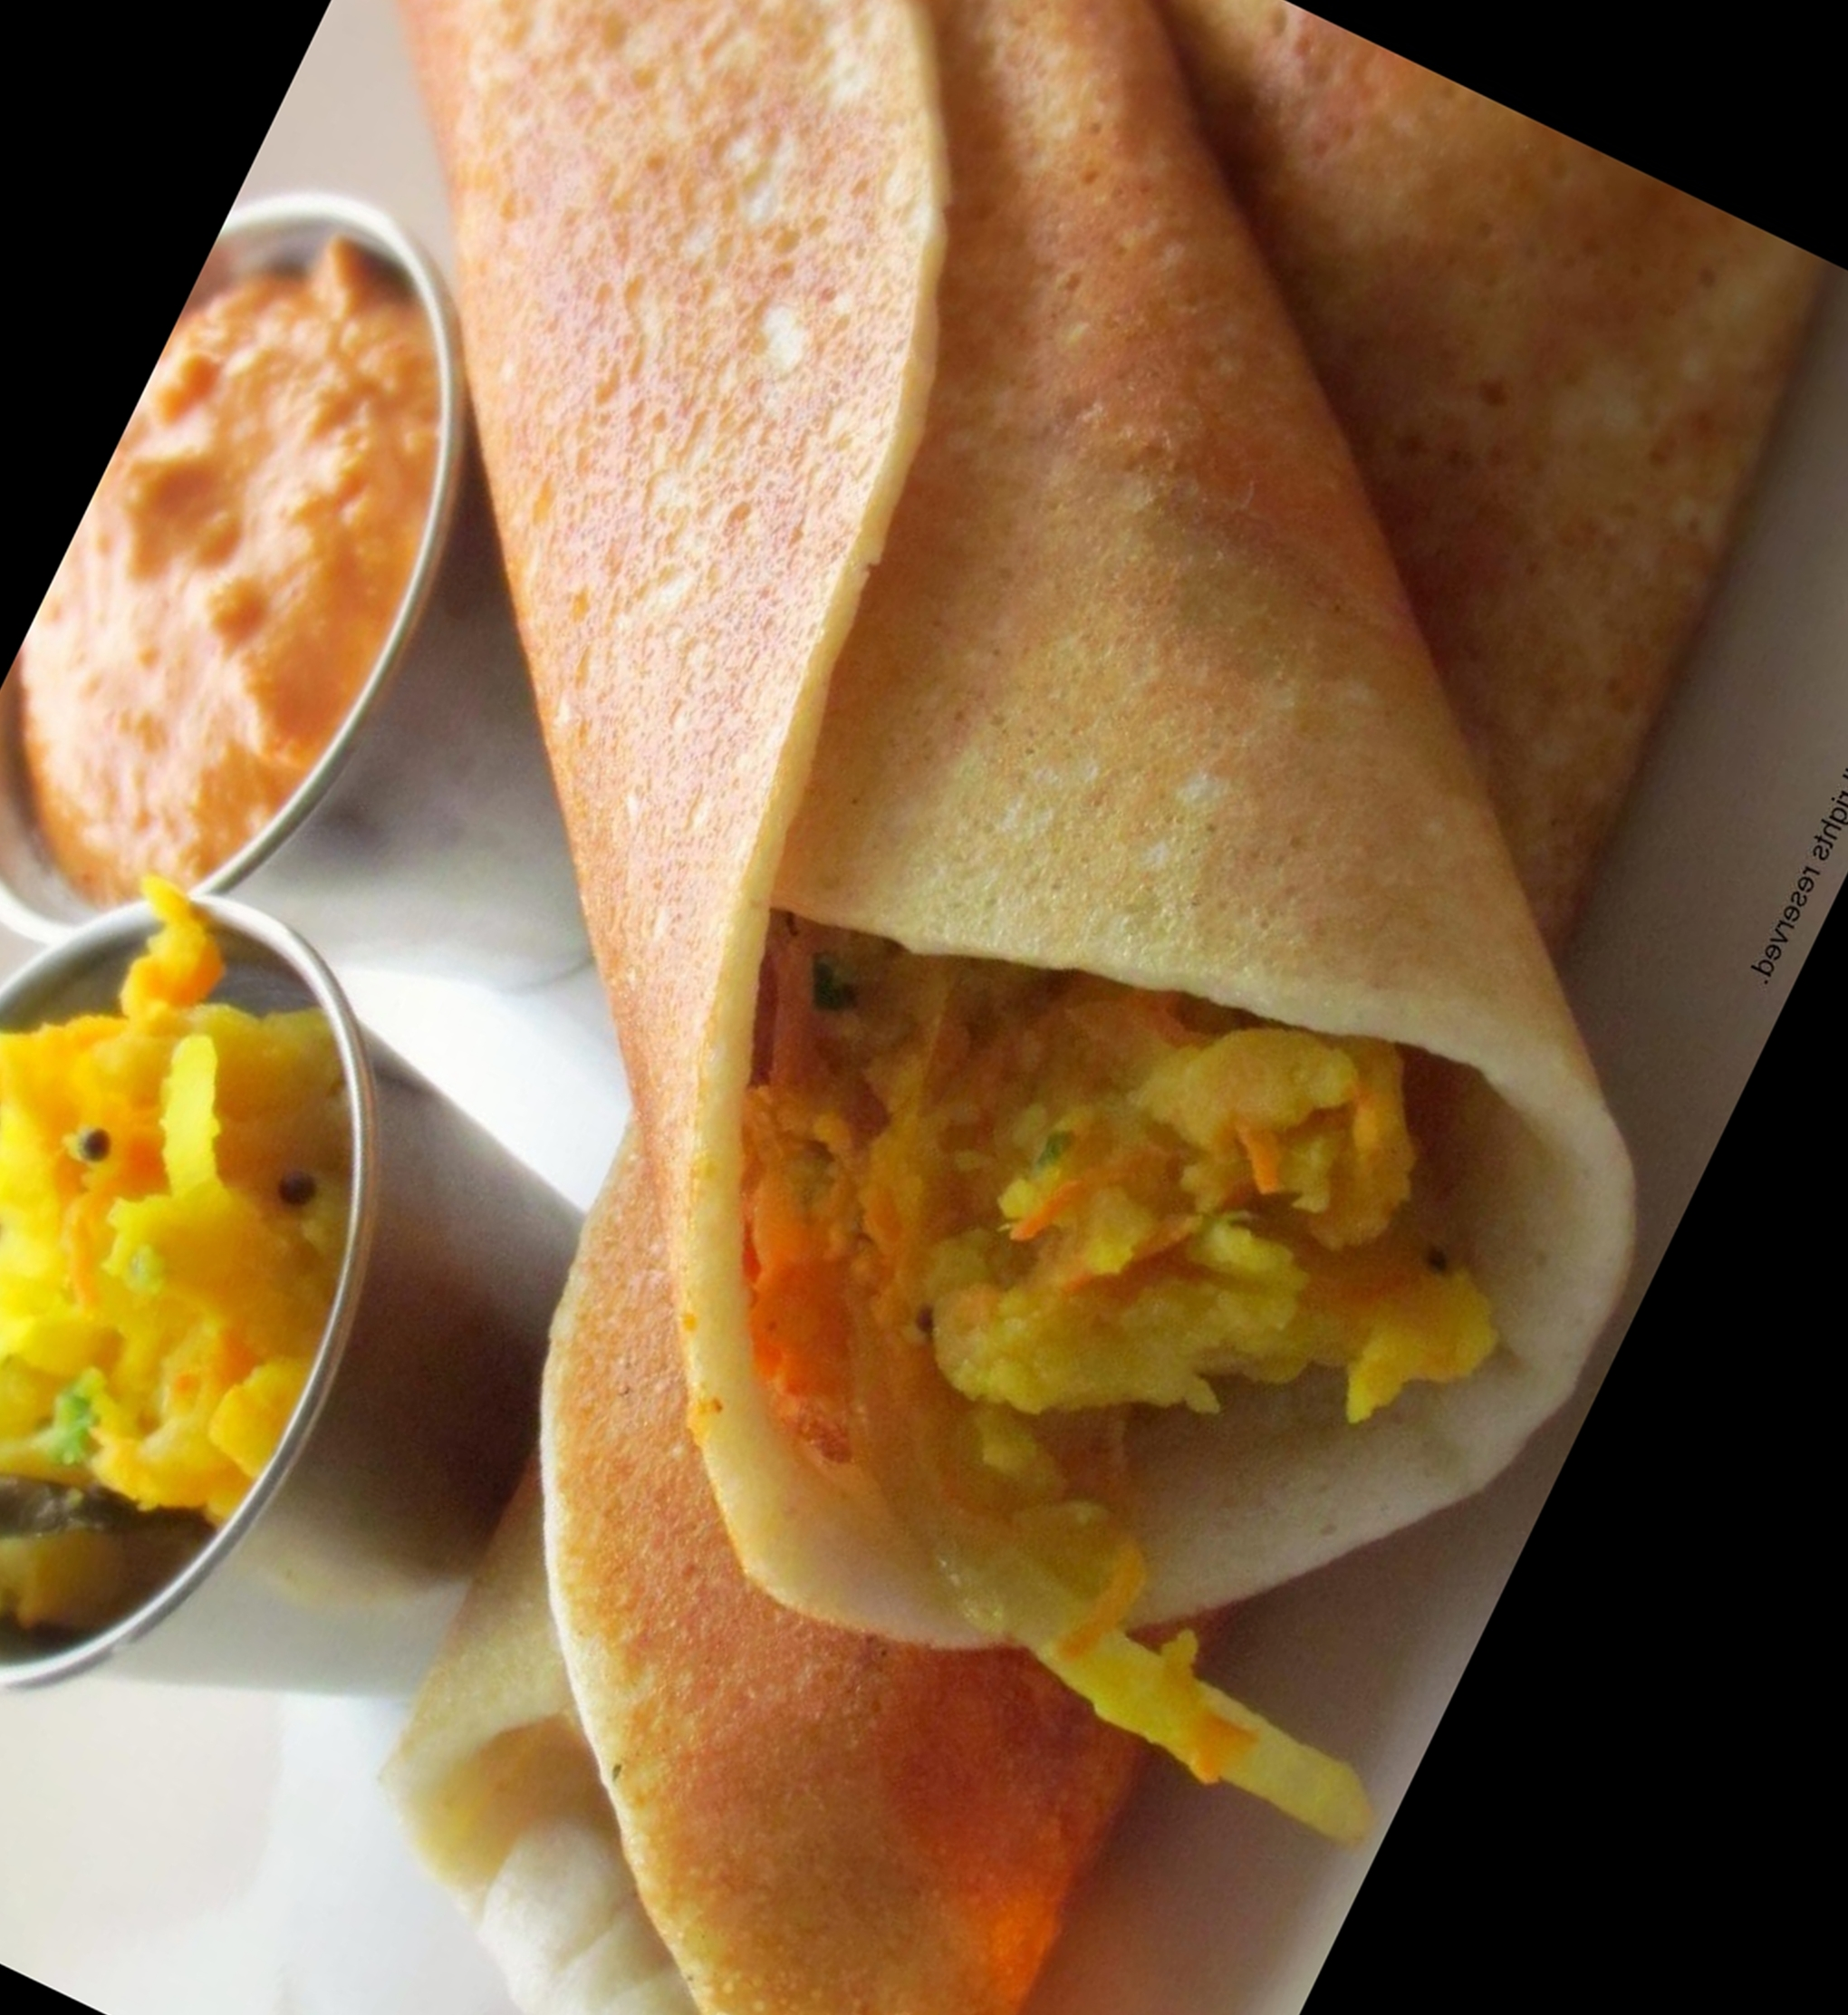dosa: (395, 7, 1650, 1671)
